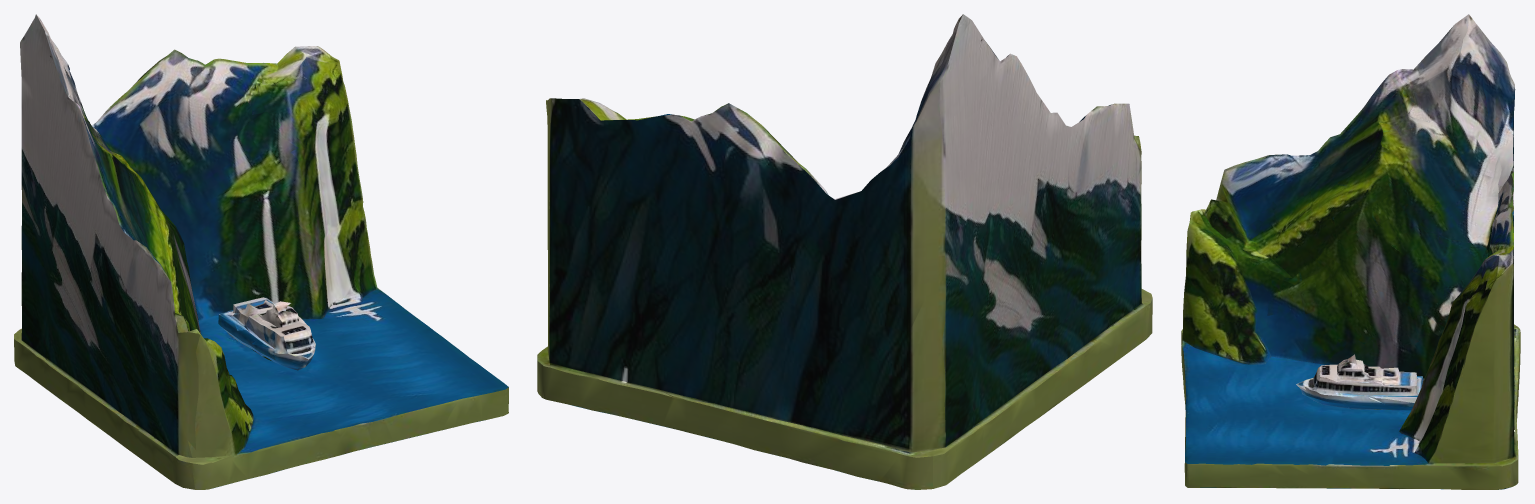
File: milford-sound.glb
3 renders of one model, left to right at view 1: azimuth 30°, elevation 25°; view 2: azimuth 150°, elevation 25°; view 3: azimuth 270°, elevation 25°, orthographic. The views are drawn at different scales.
Parts seen in each view (by area): view 1: logan-textured.obj; view 2: logan-textured.obj; view 3: logan-textured.obj.
Boxes of the visible parts, x1=… form: logan-textured.obj: x1=14, y1=14, x2=508, y2=489; logan-textured.obj: x1=537, y1=14, x2=1152, y2=489; logan-textured.obj: x1=1181, y1=14, x2=1520, y2=489.
Size of the model in its own units: 0.9414 by 1 by 0.9252.
1 material, 1 textured.
